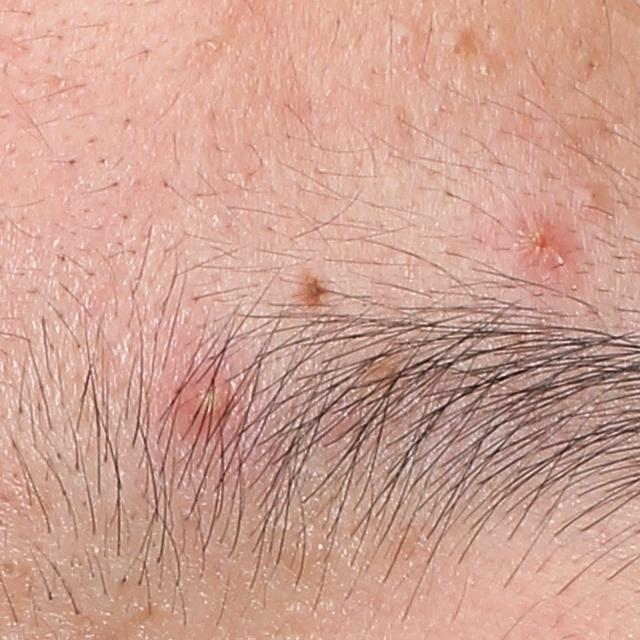comedo: (575, 47, 606, 75), (442, 32, 466, 59)
papule: (526, 222, 568, 275)
